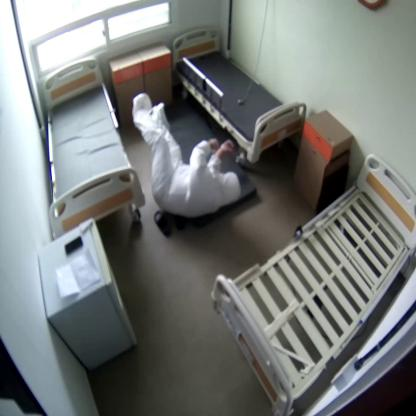Bed: (173, 29, 305, 160)
Person: (133, 95, 239, 214)
